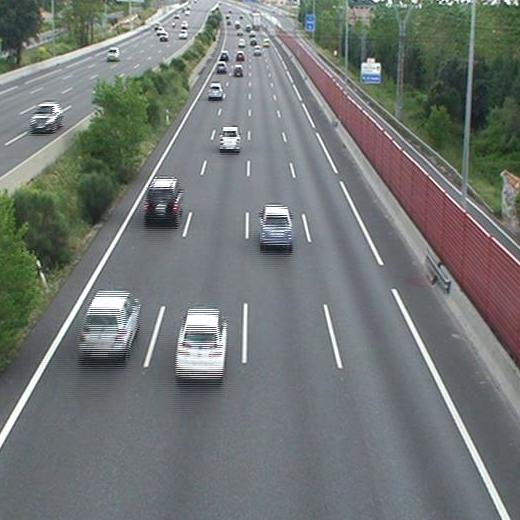car: (79, 292, 139, 356), (176, 309, 226, 379), (145, 179, 181, 221), (259, 206, 292, 246), (219, 127, 241, 150), (207, 83, 222, 98), (216, 61, 226, 74), (235, 51, 245, 62), (233, 66, 242, 77), (220, 50, 229, 61)
